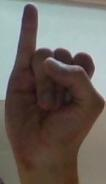I: (1, 1, 106, 184)
